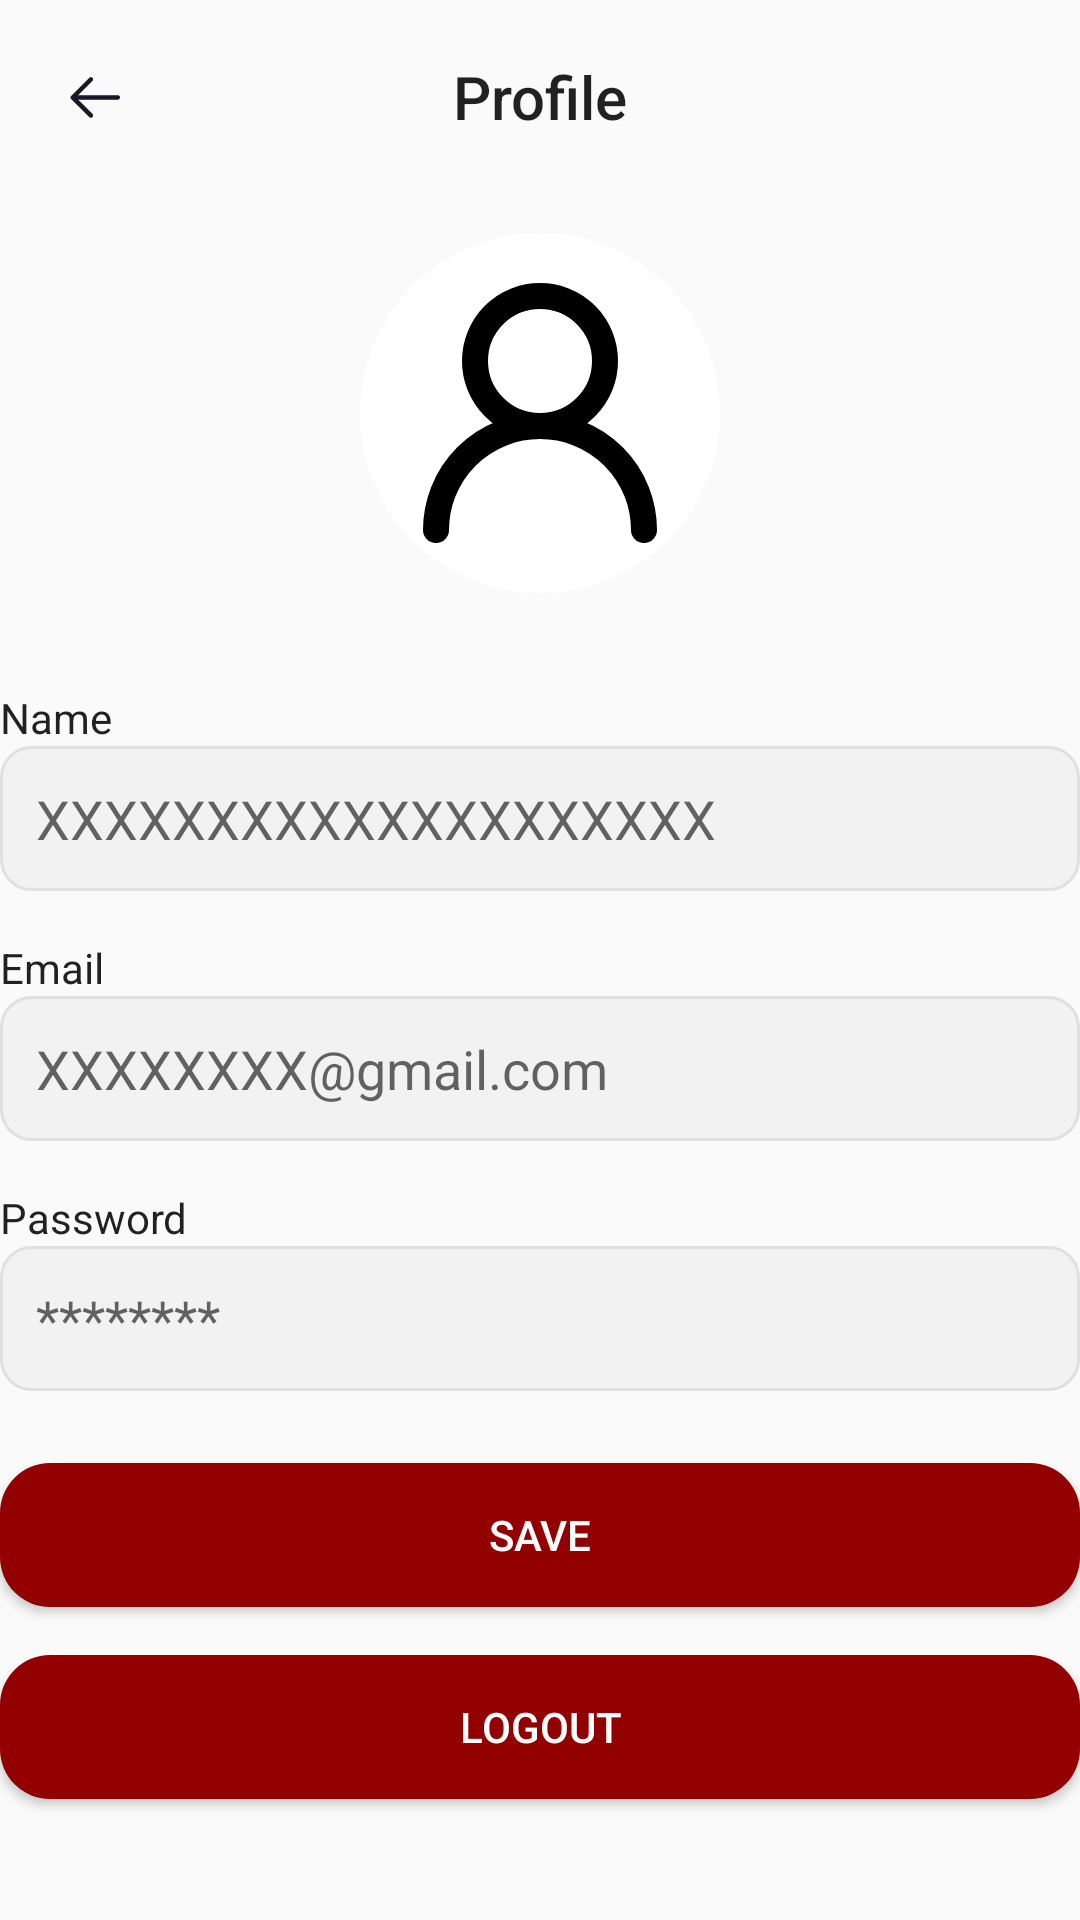

Point at icon controls on the screen. Image size 1080px x 1920px, points as [x,y].
account: [540,413]
arrow back: [95,97]
